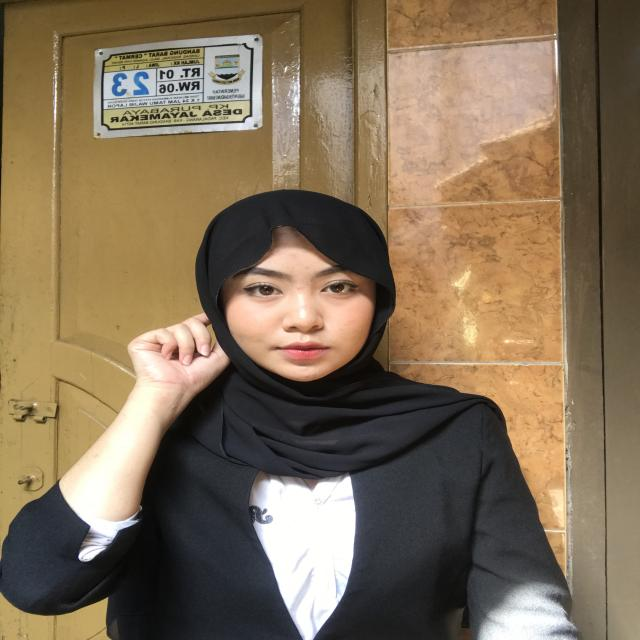ibu: (124, 301, 246, 444)
